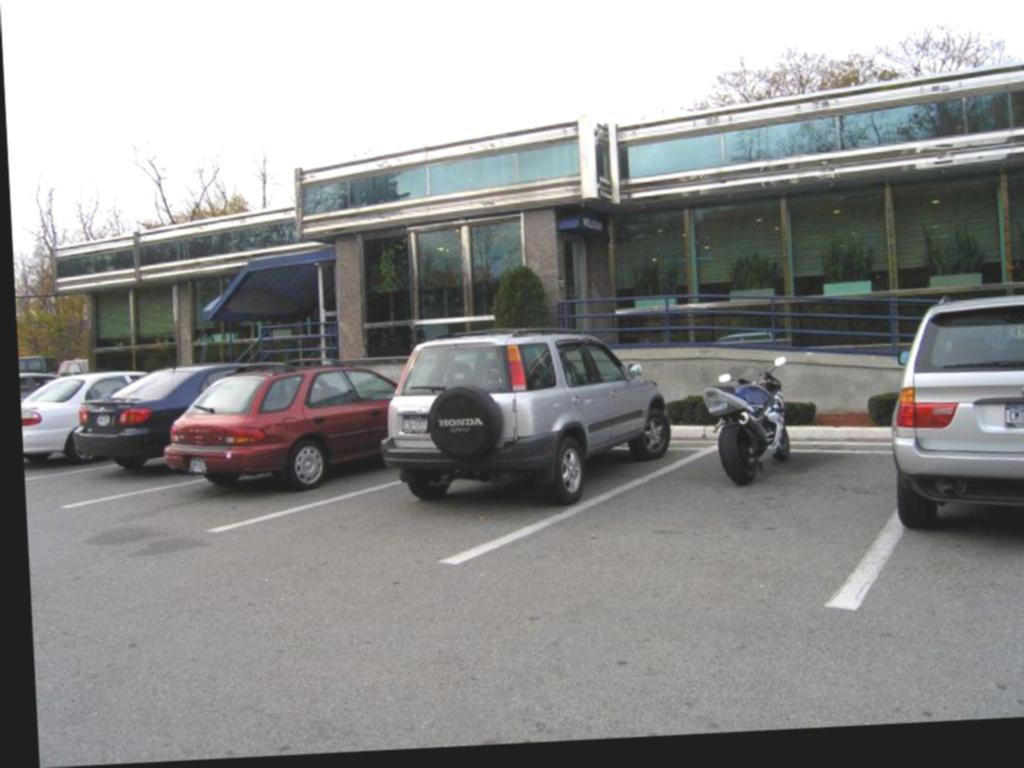License_Plate: (401, 413, 431, 434), (1003, 403, 1024, 432), (188, 458, 207, 473), (98, 414, 110, 425)
